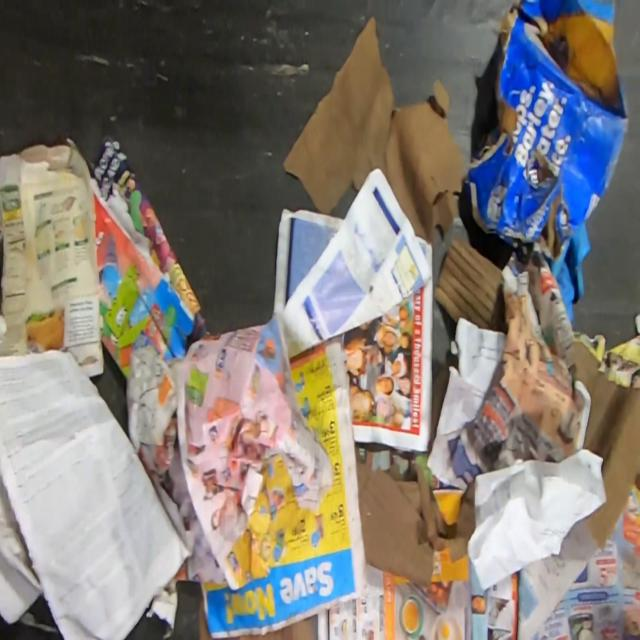cardboard: (464, 0, 630, 326), (0, 138, 104, 378), (354, 442, 475, 586), (573, 340, 640, 553), (433, 238, 508, 336), (198, 582, 314, 640)
